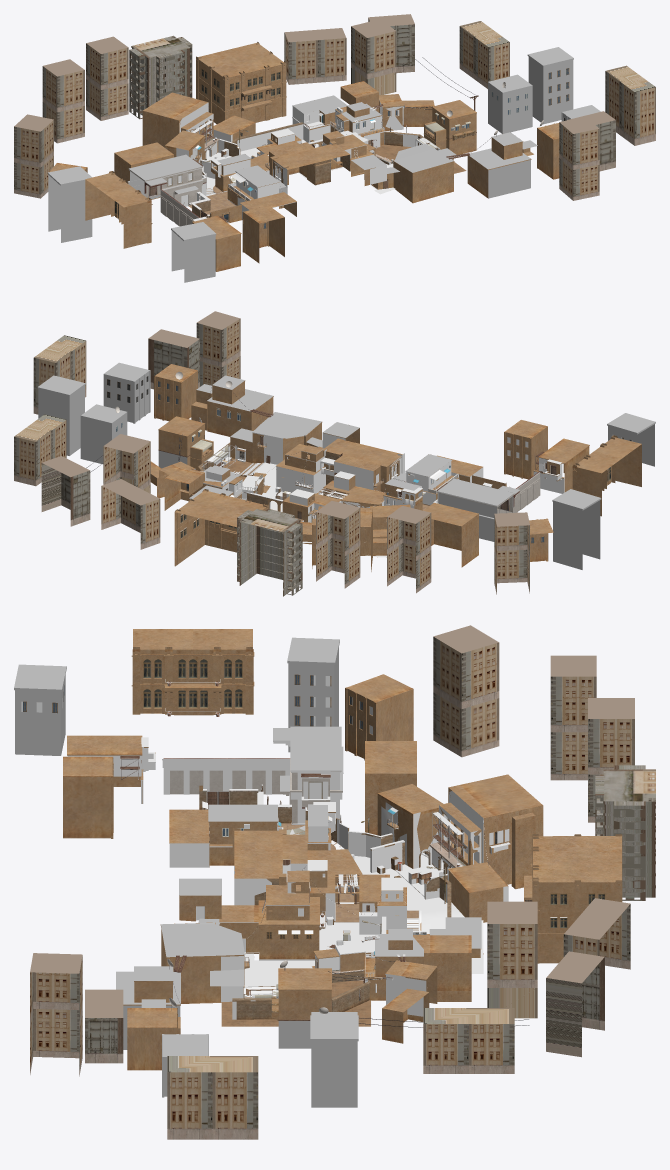
Rendered from sandyards market.glb.
The picture shows the model from 3 angles, top to bottom: view 1: azimuth 30°, elevation 25°; view 2: azimuth 150°, elevation 25°; view 3: azimuth 270°, elevation 25°; orthographic projection. The views are drawn at different scales.
Visible parts, largest first — view 1: sandyards market, phy-body-main-trimesh-0kg-0001; view 2: sandyards market, phy-body-main-trimesh-0kg-0001; view 3: sandyards market, phy-body-main-trimesh-0kg-0001.
Boxes of the visible parts, x1,y1,x2,y2 form: sandyards market: (14,14,655,282); phy-body-main-trimesh-0kg-0001: (129,100,452,222); sandyards market: (14,311,655,596); phy-body-main-trimesh-0kg-0001: (189,432,632,557); sandyards market: (14,625,655,1139); phy-body-main-trimesh-0kg-0001: (21,675,510,1026).
Size of the model in its own units: 155 by 24.56 by 100.
Materials: 6 (4 with a texture image).
